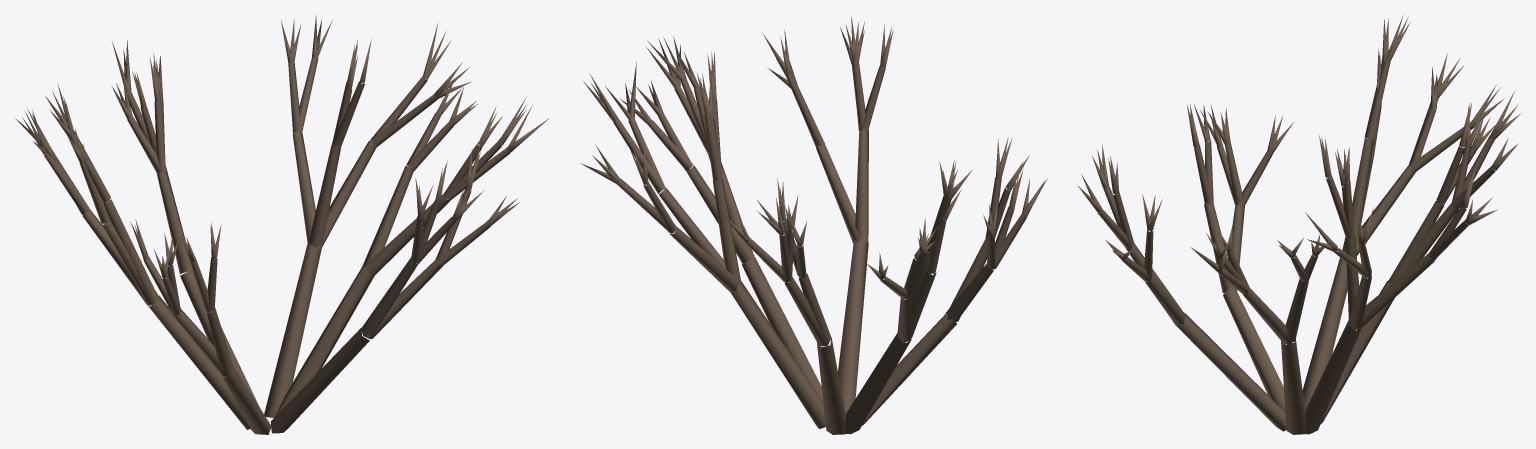
Rendered from bush-bare-c.glb.
3 renders of one model, left to right at view 1: azimuth 30°, elevation 25°; view 2: azimuth 150°, elevation 25°; view 3: azimuth 270°, elevation 25°, orthographic. The views are drawn at different scales.
Visible parts, largest first — view 1: bush-bare-c; view 2: bush-bare-c; view 3: bush-bare-c.
Boxes of the visible parts, x1,y1,x2,y2 form: bush-bare-c: (15, 15, 549, 434); bush-bare-c: (580, 16, 1047, 434); bush-bare-c: (1078, 15, 1521, 434).
Size of the model in its own units: 0.825 by 0.6794 by 0.7916.
